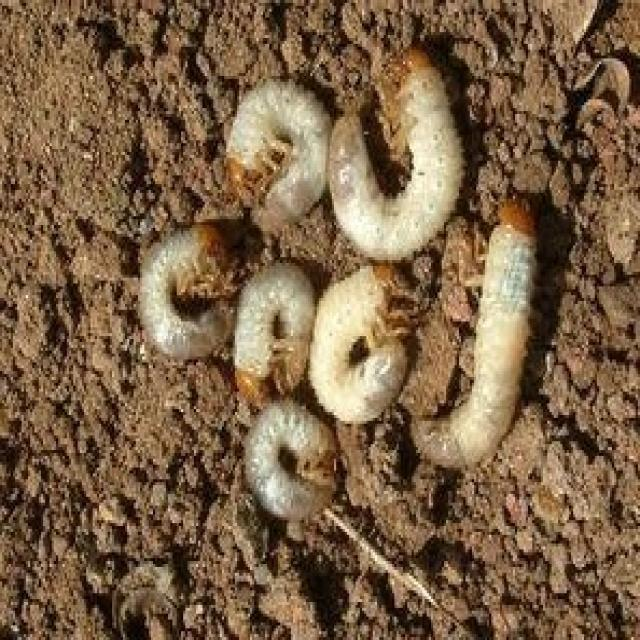grub: (408, 189, 538, 479), (326, 67, 460, 263), (201, 74, 331, 232), (304, 264, 418, 434), (134, 213, 231, 362), (240, 397, 352, 523), (234, 264, 320, 387)
